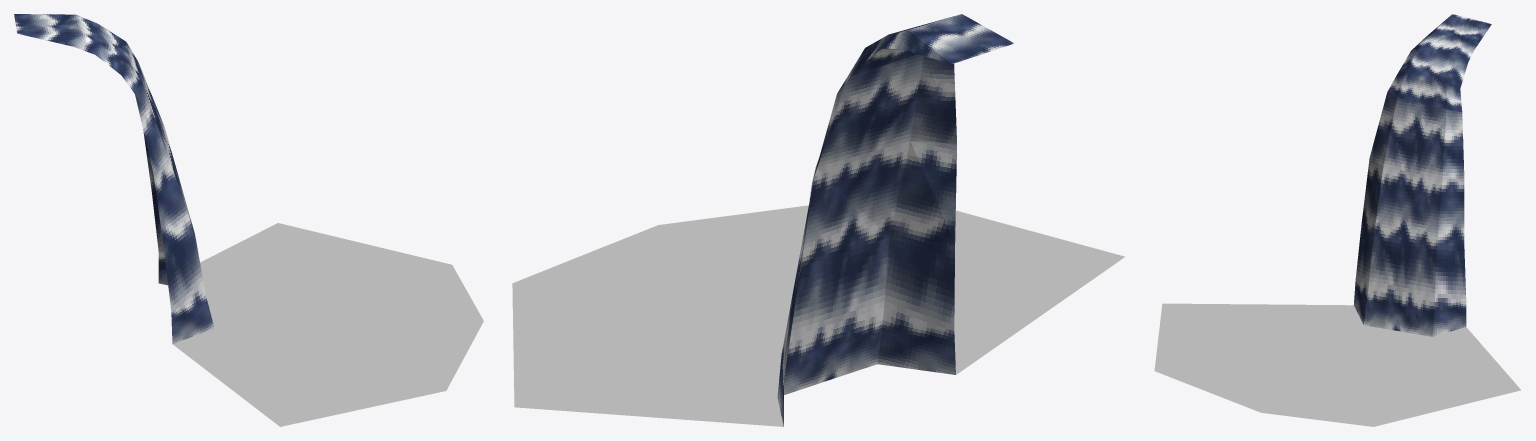
Rendered from KoopaBeachWaterfall.obj.
3 views of the same model, side by side, from view 1: azimuth 30°, elevation 25°; view 2: azimuth 150°, elevation 25°; view 3: azimuth 270°, elevation 25° (orthographic). The views are drawn at different scales.
Bounding box in the file's own units: 175 × 126 × 167.
